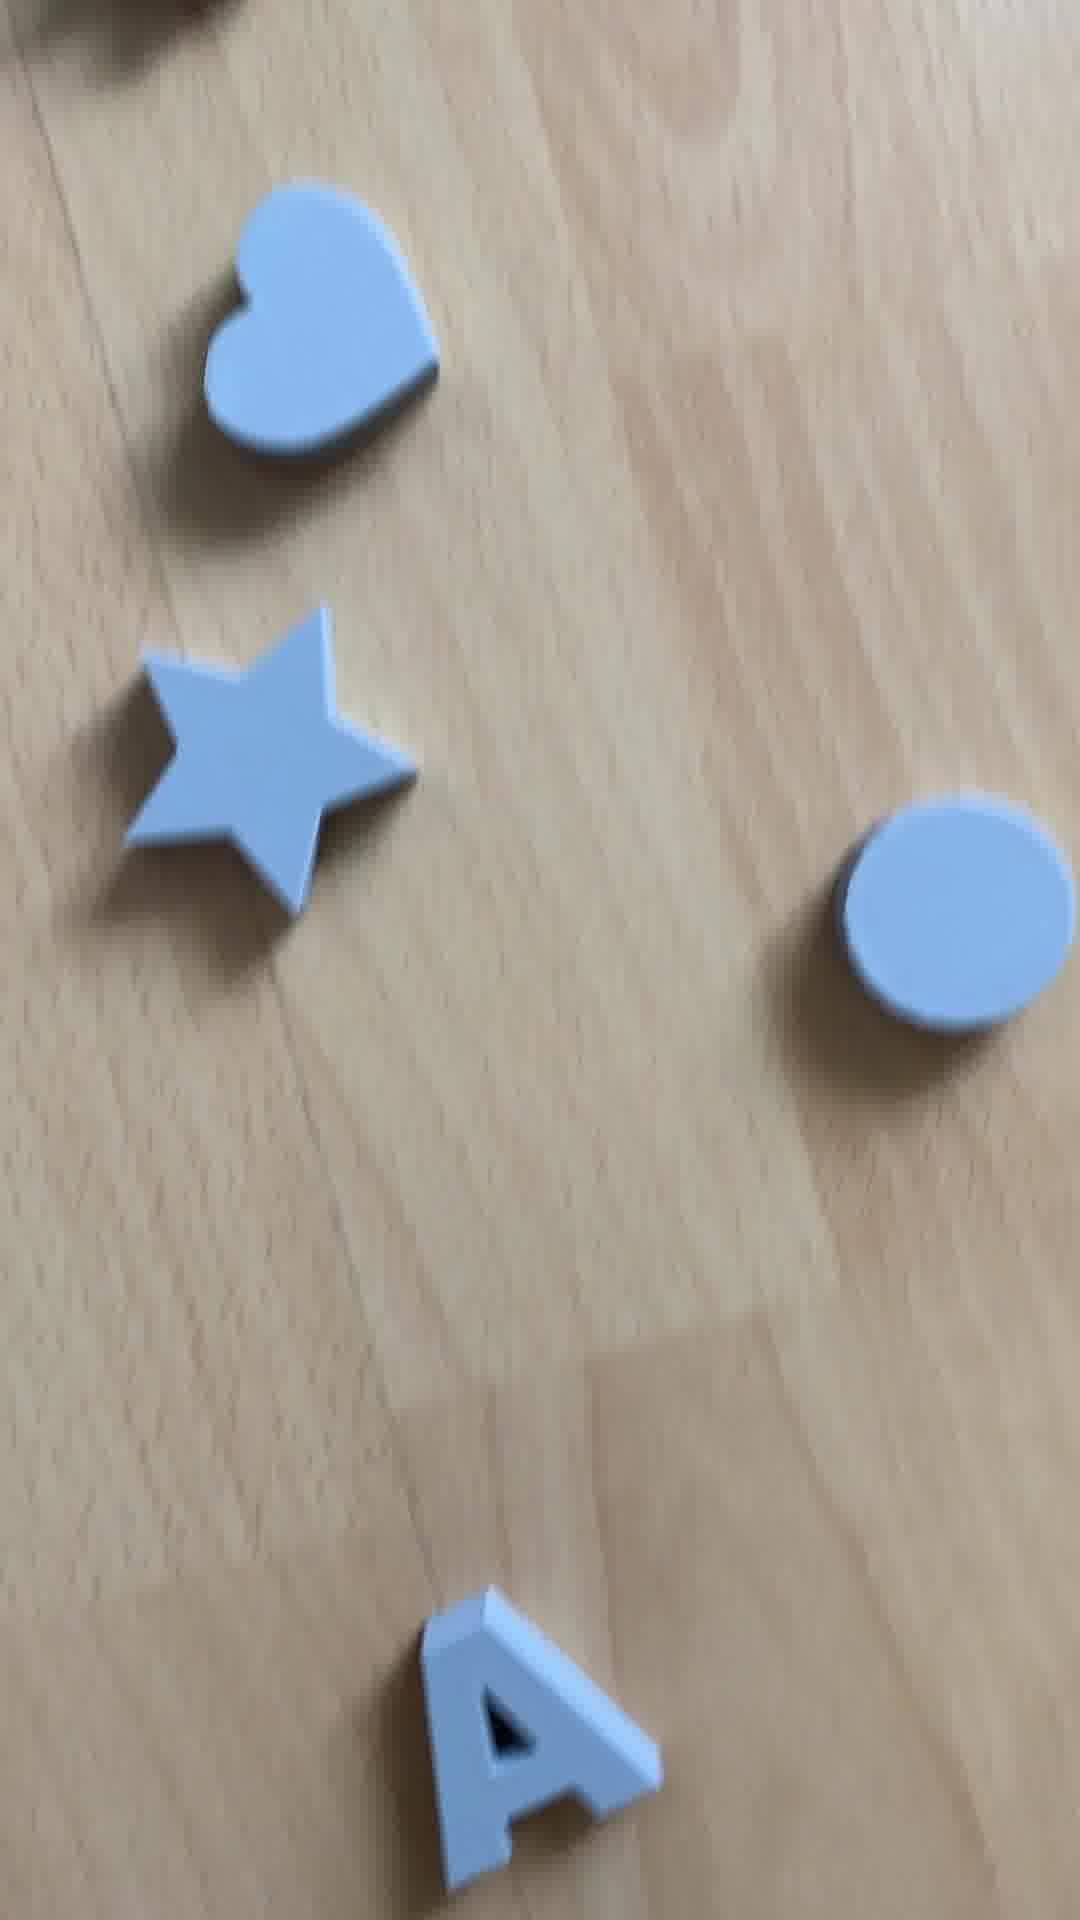Gray A-letter: (411, 1545, 698, 1871)
Gray circle: (825, 777, 1080, 1054)
Gray heart: (190, 185, 439, 467)
Gray star: (104, 599, 417, 922)
